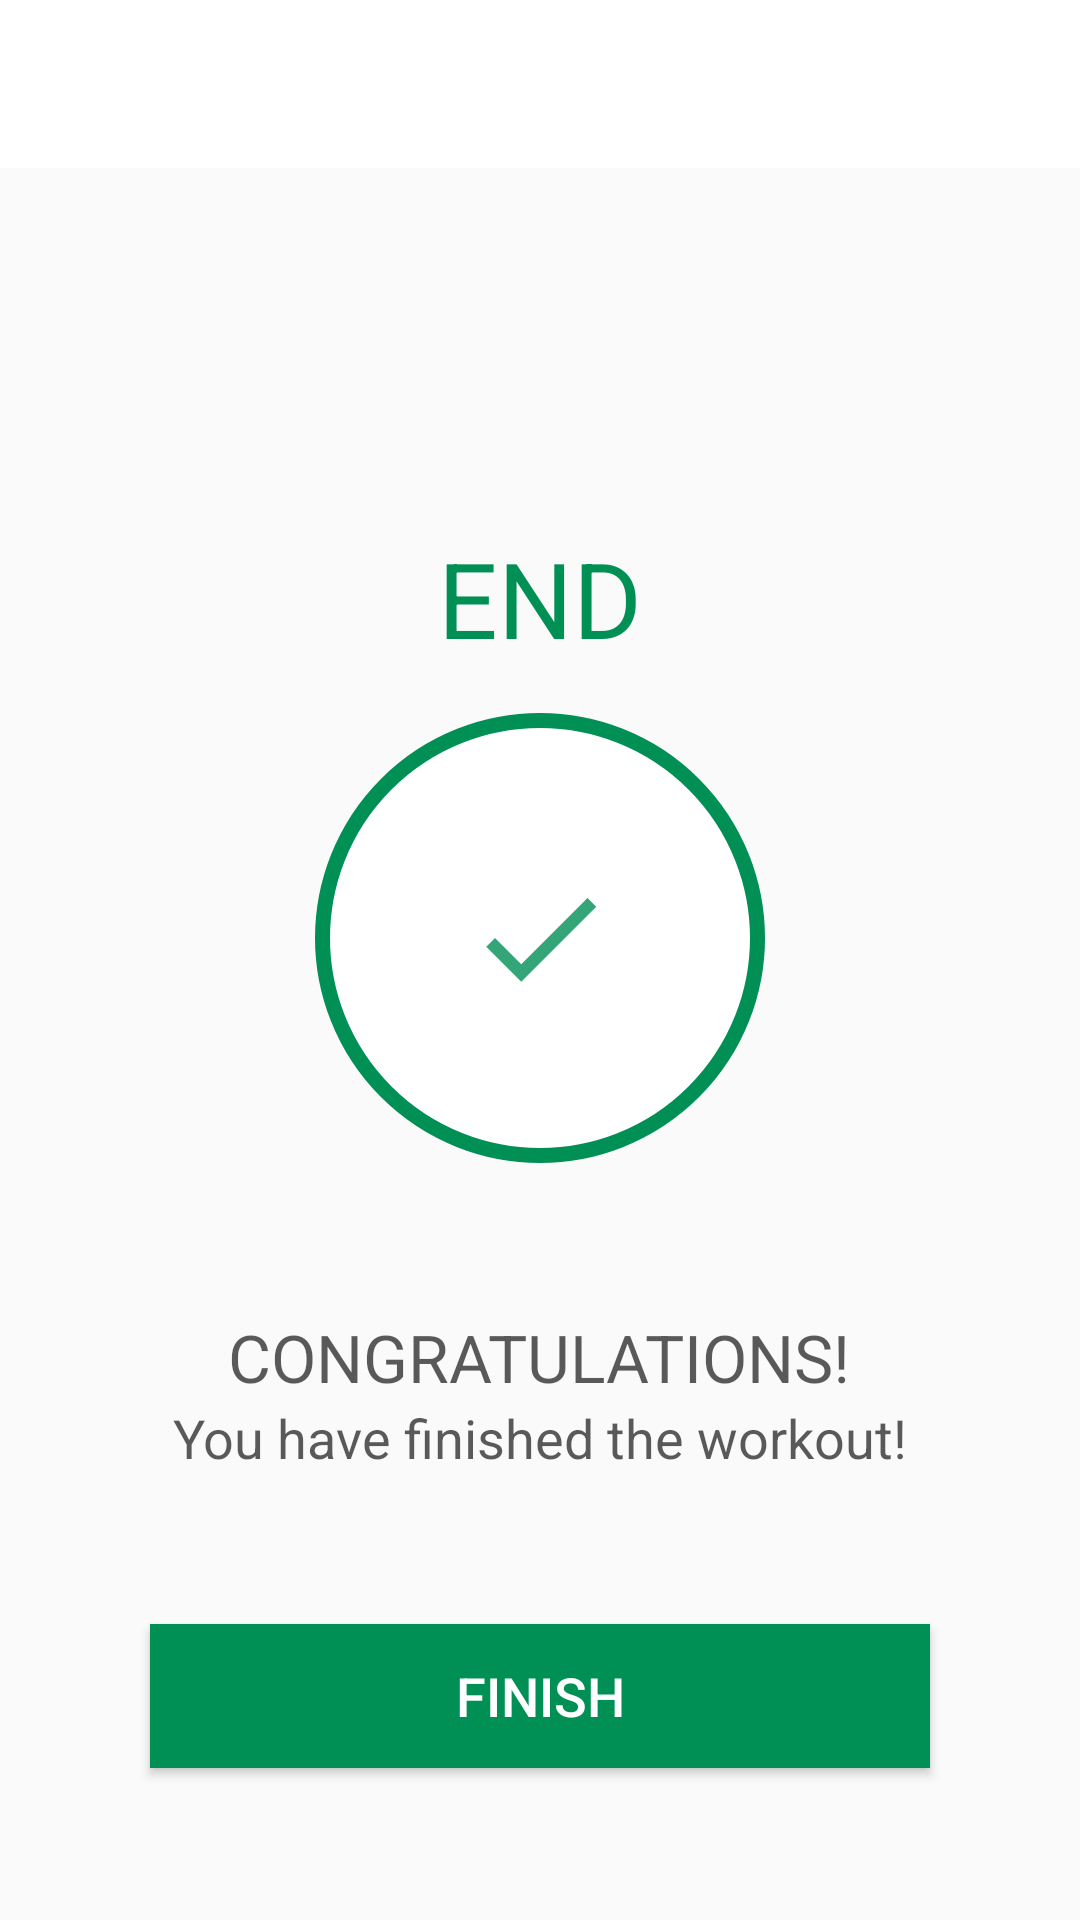

Screen size 1080 x 1920. Icon name, then its center in pixels as (x,y):
done: (541,940)
